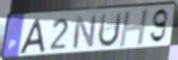2: (48, 18, 70, 52)
9: (148, 8, 170, 45)
A: (17, 17, 47, 56)
H: (117, 8, 150, 50)
N: (71, 14, 99, 51)
U: (97, 10, 124, 49)
